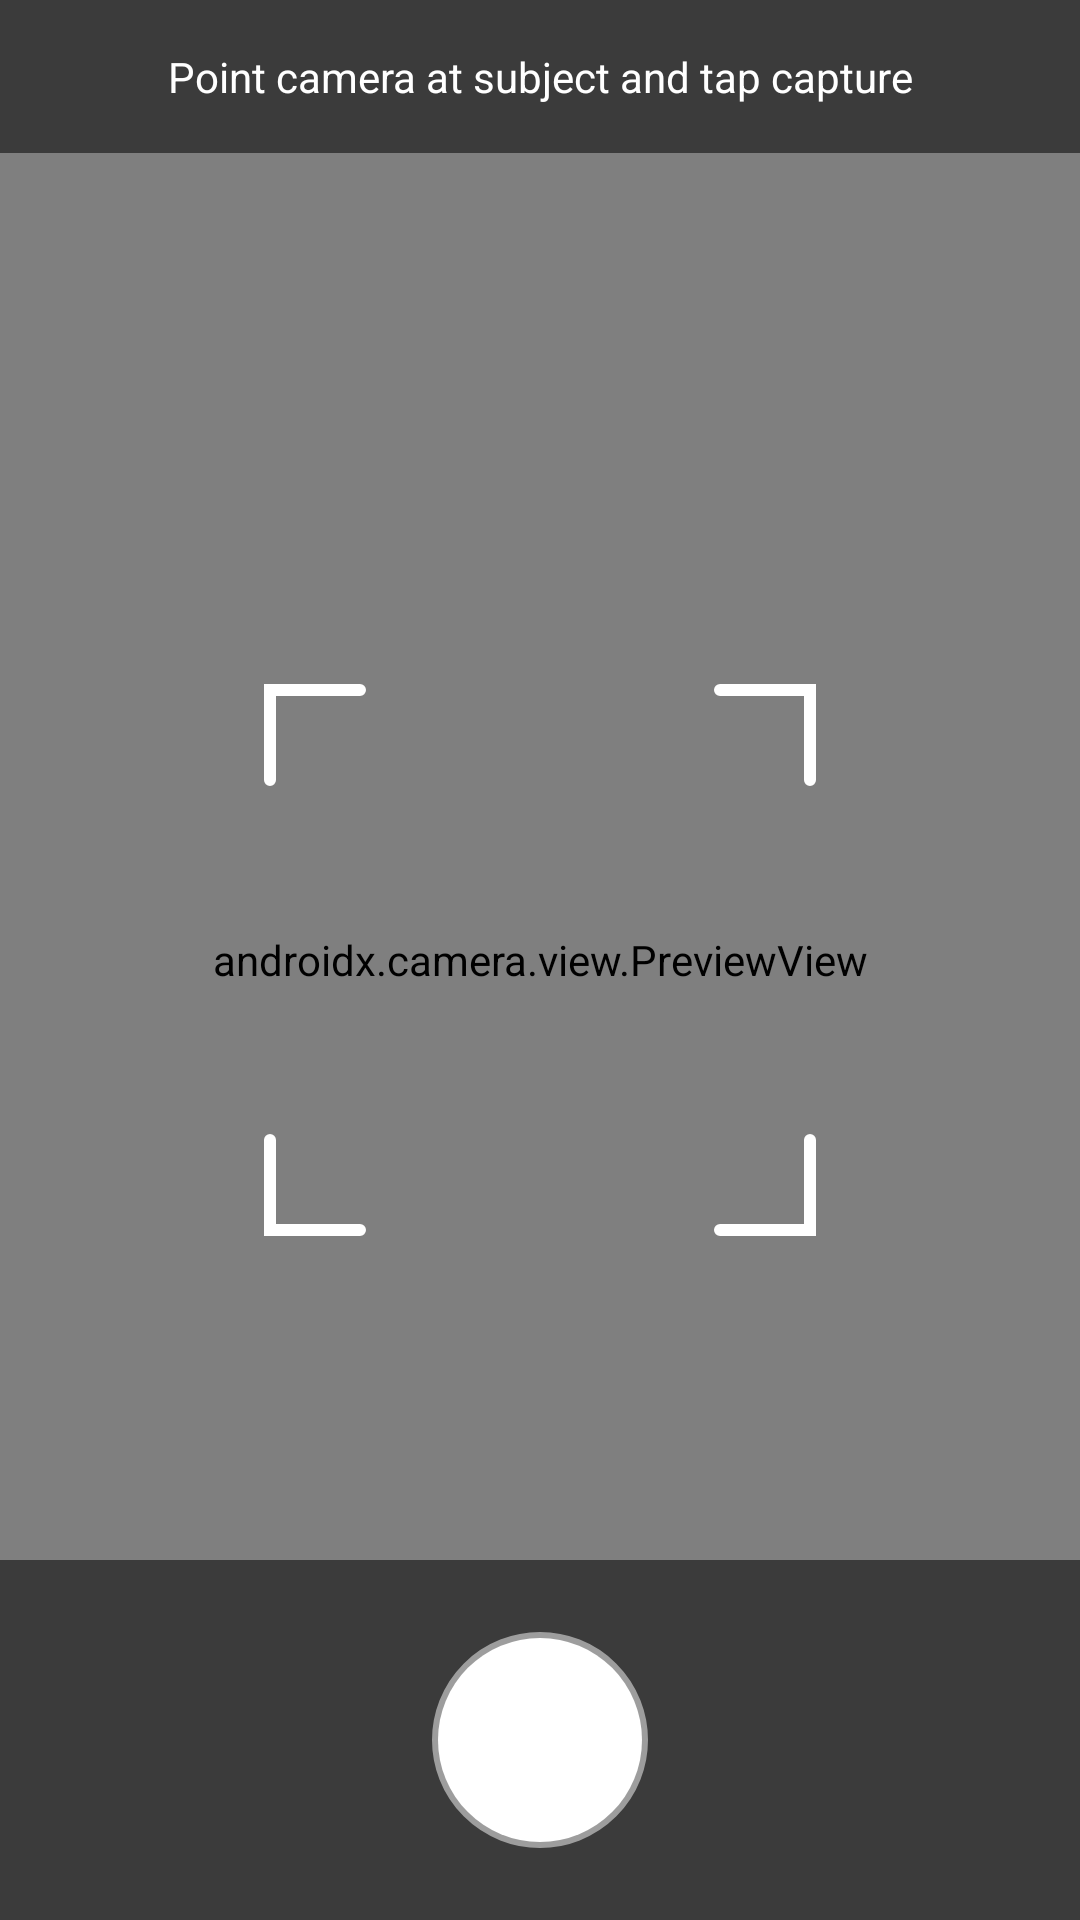

Locate icon controls on the screen. Image size 1080px×1920px, boxes as (x1, y1, x2, y2).
Capture photo: (432, 1632, 648, 1848)
